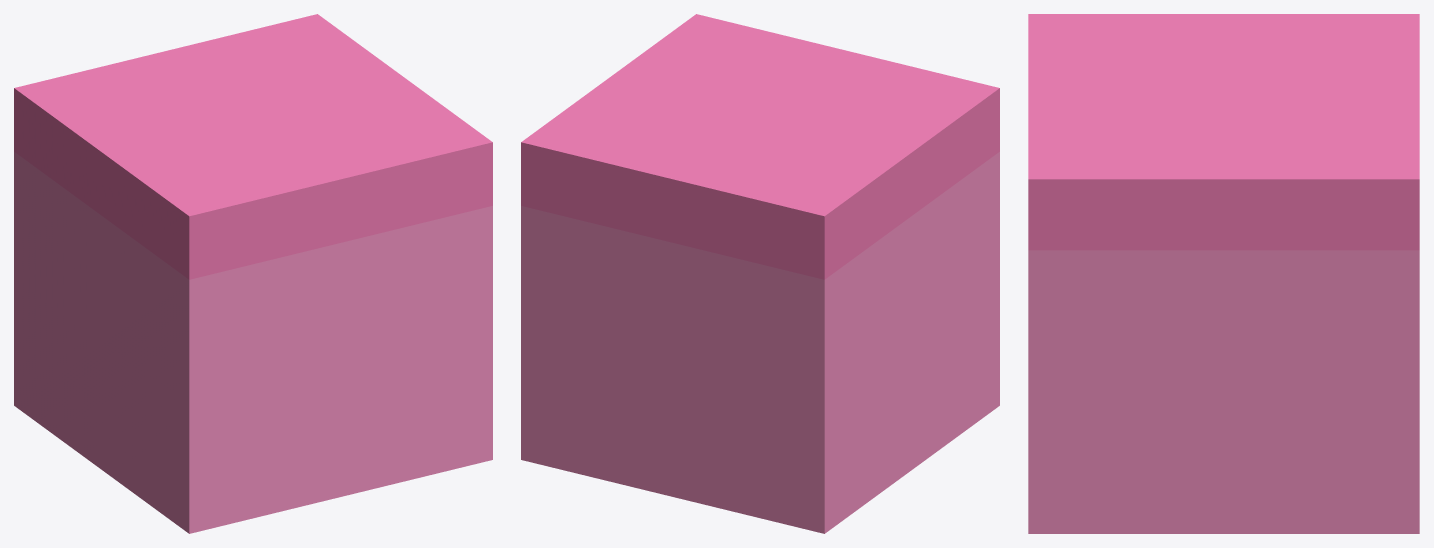
File: block2.obj
The picture shows the model from 3 angles, left to right: view 1: azimuth 30°, elevation 25°; view 2: azimuth 150°, elevation 25°; view 3: azimuth 270°, elevation 25°; orthographic projection. The views are drawn at different scales.
Bounding box in the file's own units: 1 × 1 × 1.
1 material, 1 textured.
